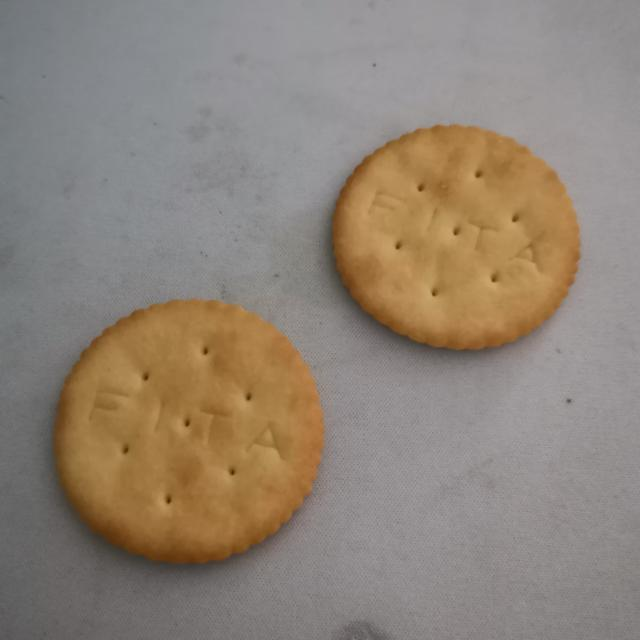Intact: (40, 288, 331, 573), (329, 109, 593, 359)
